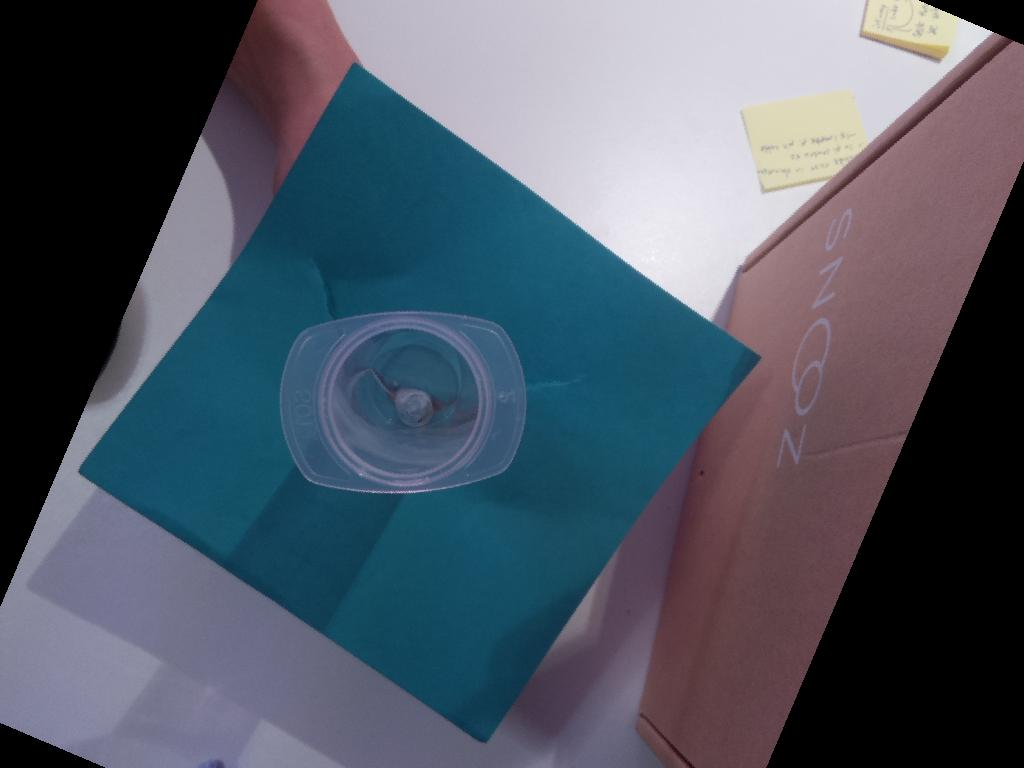clean: (279, 307, 529, 497)
